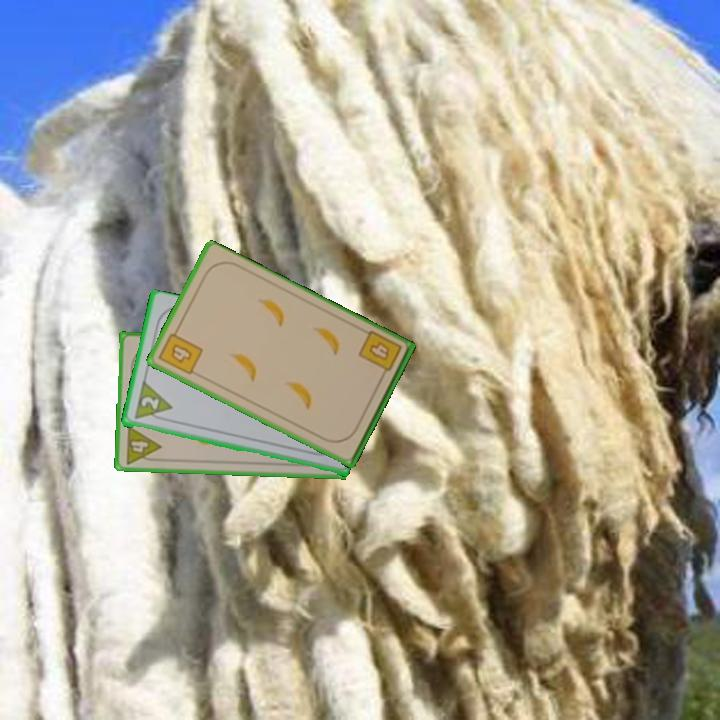2p: (130, 380, 175, 425)
4b: (155, 324, 206, 378), (355, 327, 404, 382)
4p: (122, 422, 164, 467)
